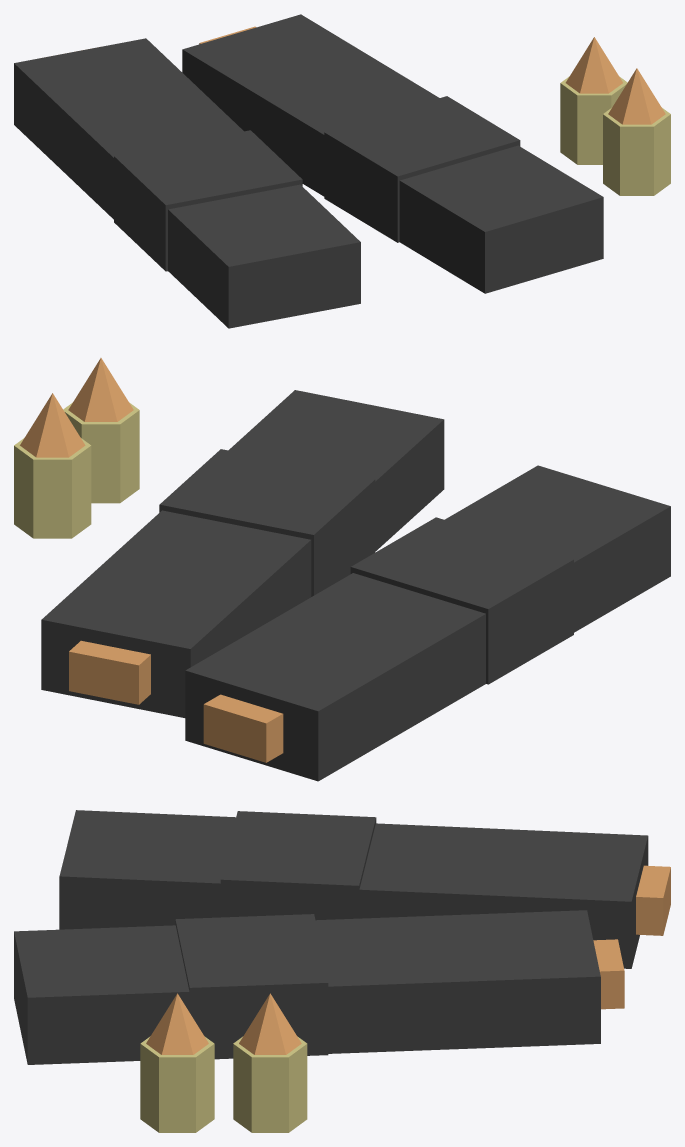
The model's file is ce_ammo_pistol_fmj_b.obj.
The picture shows the model from 3 angles, top to bottom: view 1: azimuth 30°, elevation 25°; view 2: azimuth 150°, elevation 25°; view 3: azimuth 270°, elevation 25°; orthographic projection. The views are drawn at different scales.
Visible parts, largest first — view 1: ce_ammo_pistol_fmj_b_3, ce_ammo_pistol_fmj_b_0, ce_ammo_pistol_fmj_b_4, ce_ammo_pistol_fmj_b_1, ce_ammo_pistol_fmj_b_6, ce_ammo_pistol_fmj_b_8, ce_ammo_pistol_fmj_b_9, ce_ammo_pistol_fmj_b_7; view 2: ce_ammo_pistol_fmj_b_0, ce_ammo_pistol_fmj_b_3, ce_ammo_pistol_fmj_b_1, ce_ammo_pistol_fmj_b_4, ce_ammo_pistol_fmj_b_8, ce_ammo_pistol_fmj_b_6, ce_ammo_pistol_fmj_b_5, ce_ammo_pistol_fmj_b_2, ce_ammo_pistol_fmj_b_9, ce_ammo_pistol_fmj_b_7; view 3: ce_ammo_pistol_fmj_b_3, ce_ammo_pistol_fmj_b_0, ce_ammo_pistol_fmj_b_4, ce_ammo_pistol_fmj_b_1, ce_ammo_pistol_fmj_b_6, ce_ammo_pistol_fmj_b_8, ce_ammo_pistol_fmj_b_2, ce_ammo_pistol_fmj_b_7, ce_ammo_pistol_fmj_b_9, ce_ammo_pistol_fmj_b_5.
Part boxes in pixels (box(x1,y1,x2,y2)): ce_ammo_pistol_fmj_b_3: box(182, 14, 603, 293); ce_ammo_pistol_fmj_b_0: box(14, 38, 360, 328); ce_ammo_pistol_fmj_b_4: box(324, 96, 520, 242); ce_ammo_pistol_fmj_b_1: box(114, 130, 302, 271); ce_ammo_pistol_fmj_b_6: box(603, 108, 670, 195); ce_ammo_pistol_fmj_b_8: box(560, 76, 627, 164); ce_ammo_pistol_fmj_b_9: box(565, 37, 622, 93); ce_ammo_pistol_fmj_b_7: box(608, 68, 665, 124); ce_ammo_pistol_fmj_b_0: box(185, 465, 670, 781); ce_ammo_pistol_fmj_b_3: box(41, 390, 444, 717); ce_ammo_pistol_fmj_b_1: box(350, 517, 573, 684); ce_ammo_pistol_fmj_b_4: box(159, 449, 375, 596); ce_ammo_pistol_fmj_b_8: box(14, 438, 91, 538); ce_ammo_pistol_fmj_b_6: box(63, 402, 139, 503); ce_ammo_pistol_fmj_b_5: box(69, 640, 150, 704); ce_ammo_pistol_fmj_b_2: box(203, 694, 283, 762); ce_ammo_pistol_fmj_b_9: box(20, 393, 85, 457); ce_ammo_pistol_fmj_b_7: box(68, 358, 133, 421); ce_ammo_pistol_fmj_b_3: box(14, 910, 600, 1064); ce_ammo_pistol_fmj_b_0: box(59, 810, 648, 968); ce_ammo_pistol_fmj_b_4: box(175, 914, 328, 1059); ce_ammo_pistol_fmj_b_1: box(220, 811, 376, 920); ce_ammo_pistol_fmj_b_6: box(140, 1036, 214, 1132); ce_ammo_pistol_fmj_b_8: box(233, 1036, 307, 1132); ce_ammo_pistol_fmj_b_2: box(636, 865, 670, 935); ce_ammo_pistol_fmj_b_7: box(146, 993, 208, 1054); ce_ammo_pistol_fmj_b_9: box(239, 993, 301, 1054); ce_ammo_pistol_fmj_b_5: box(593, 939, 624, 1009).
Size of the model in its own units: 0.6515 by 0.15 by 0.708.
